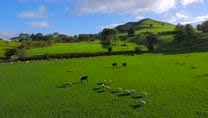sheep: (79, 75, 89, 83), (117, 86, 125, 94), (141, 90, 149, 98), (121, 62, 129, 69), (125, 88, 132, 96), (111, 62, 118, 69), (139, 99, 146, 106), (130, 88, 136, 95), (100, 83, 105, 88), (102, 78, 107, 83)
